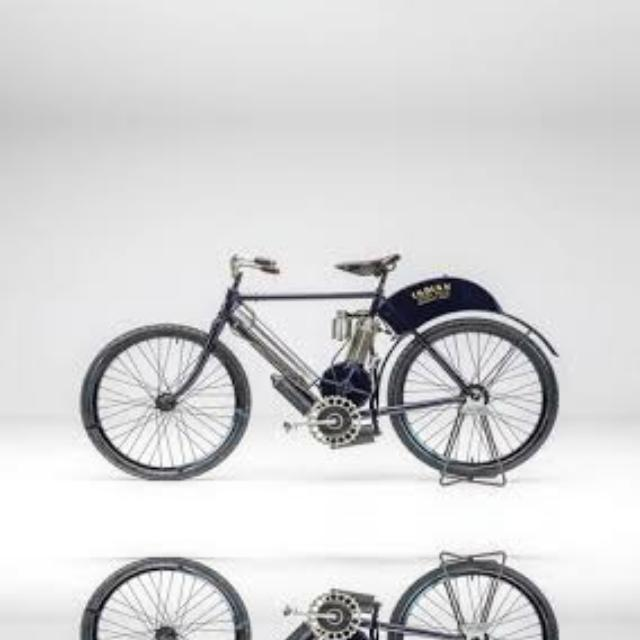obstacle: (58, 218, 640, 497), (58, 541, 640, 640), (58, 0, 640, 22)
